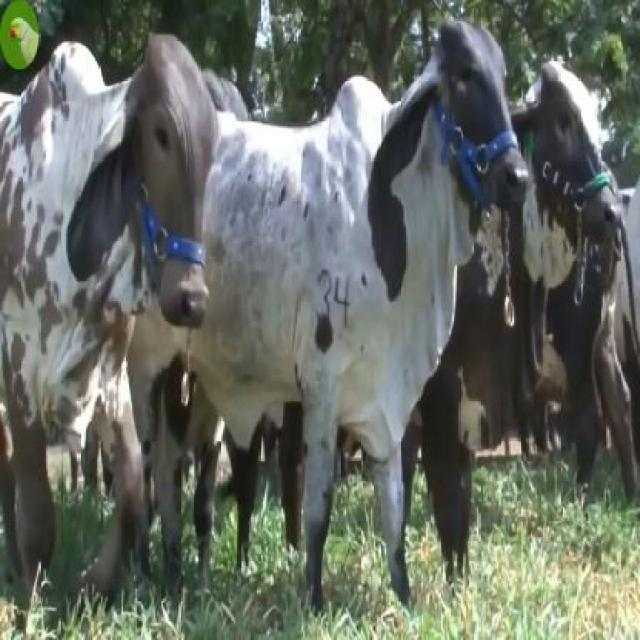Cow: (218, 25, 528, 608), (0, 32, 222, 603)
